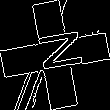N_W: (27, 31, 83, 79)
